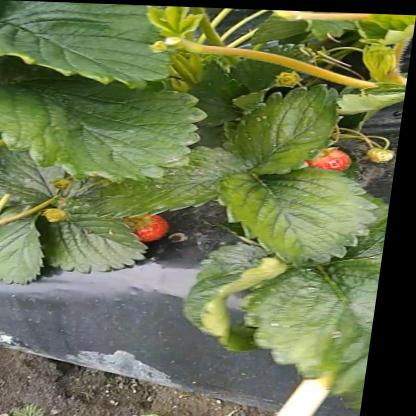ripe: (129, 213, 176, 243), (313, 143, 355, 170)
unripe: (370, 142, 402, 162), (49, 206, 74, 223)
